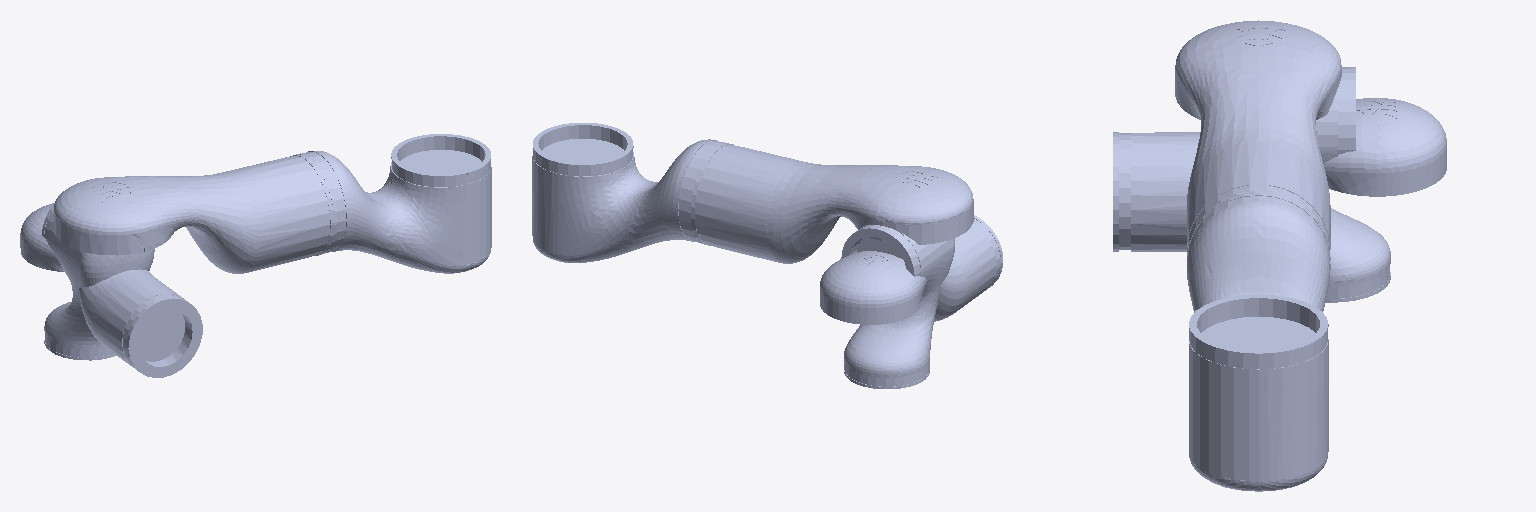
The robot description file, URDF, robot "eg2_4b_description":
<?xml version="1.0" encoding="utf-8"?>
<!-- This URDF was automatically created by SolidWorks to URDF Exporter! Originally created by [author] ([email redacted]) 
     Commit Version: 1.6.0-1-g15f4949  Build Version: 1.6.7594.29634
     For more information, please see http://wiki.ros.org/sw_urdf_exporter -->
<robot
  name="eg2_4b_description">
  <link
    name="base_link">
    <inertial>
      <origin
        xyz="-2.6792E-06 1.4343E-05 0.040955"
        rpy="0 0 0" />
      <mass
        value="0.075349" />
      <inertia
        ixx="6.9695E-05"
        ixy="-2.8955E-12"
        ixz="1.2653E-08"
        iyy="6.0426E-05"
        iyz="2.2585E-08"
        izz="1.9195E-05" />
    </inertial>
    <visual>
      <origin
        xyz="0 0 0"
        rpy="0 0 0" />
      <geometry>
        <mesh
          filename="package://eg2_4b_description/meshes/base_link.STL" />
      </geometry>
      <material
        name="">
        <color
          rgba="0.79216 0.81961 0.93333 1" />
      </material>
    </visual>
    <collision>
      <origin
        xyz="0 0 0"
        rpy="0 0 0" />
      <geometry>
        <mesh
          filename="package://eg2_4b_description/meshes/base_link.STL" />
      </geometry>
    </collision>
  </link>
  <link
    name="Link1">
    <inertial>
      <origin
        xyz="0.0001 0.0085832 0.013664"
        rpy="0 0 0" />
      <mass
        value="0.0024857" />
      <inertia
        ixx="5.8907E-07"
        ixy="1.3343E-19"
        ixz="4.2984E-19"
        iyy="5.2237E-07"
        iyz="-2.5787E-07"
        izz="2.7386E-07" />
    </inertial>
    <visual>
      <origin
        xyz="0 0 0"
        rpy="0 0 0" />
      <geometry>
        <mesh
          filename="package://eg2_4b_description/meshes/Link1.STL" />
      </geometry>
      <material
        name="">
        <color
          rgba="0.79216 0.81961 0.93333 1" />
      </material>
    </visual>
    <collision>
      <origin
        xyz="0 0 0"
        rpy="0 0 0" />
      <geometry>
        <mesh
          filename="package://eg2_4b_description/meshes/Link1.STL" />
      </geometry>
    </collision>
  </link>
  <joint
    name="joint1"
    type="revolute">
    <origin
      xyz="0 -0.04 0.09"
      rpy="0 0 0" />
    <parent
      link="base_link" />
    <child
      link="Link1" />
    <axis
      xyz="1 0 0" />
    <limit
      lower="0"
      upper="0.872"
      effort="0"
      velocity="0" />
  </joint>
  <link
    name="Link2">
    <inertial>
      <origin
        xyz="9.9997E-05 0.011846 0.011367"
        rpy="0 0 0" />
      <mass
        value="0.0044927" />
      <inertia
        ixx="4.099E-07"
        ixy="-7.8736E-14"
        ixz="-7.8248E-14"
        iyy="4.2946E-07"
        iyz="-3.8654E-08"
        izz="1.6162E-07" />
    </inertial>
    <visual>
      <origin
        xyz="0 0 0"
        rpy="0 0 0" />
      <geometry>
        <mesh
          filename="package://eg2_4b_description/meshes/Link2.STL" />
      </geometry>
      <material
        name="">
        <color
          rgba="0.79216 0.81961 0.93333 1" />
      </material>
    </visual>
    <collision>
      <origin
        xyz="0 0 0"
        rpy="0 0 0" />
      <geometry>
        <mesh
          filename="package://eg2_4b_description/meshes/Link2.STL" />
      </geometry>
    </collision>
  </link>
  <joint
    name="joint2"
    type="revolute">
    <origin
      xyz="0 0.022341 0.035565"
      rpy="0 0 0" />
    <parent
      link="Link1" />
    <child
      link="Link2" />
    <axis
      xyz="-1 0 0" />
    <limit
      lower="0"
      upper="0.849"
      effort="0"
      velocity="0" />
  </joint>
  <link
    name="Link3">
    <inertial>
      <origin
        xyz="0.0001 -0.0085832 0.013664"
        rpy="0 0 0" />
      <mass
        value="0.0024857" />
      <inertia
        ixx="5.8907E-07"
        ixy="-3.3324E-19"
        ixz="3.1193E-19"
        iyy="5.2237E-07"
        iyz="2.5787E-07"
        izz="2.7386E-07" />
    </inertial>
    <visual>
      <origin
        xyz="0 0 0"
        rpy="0 0 0" />
      <geometry>
        <mesh
          filename="package://eg2_4b_description/meshes/Link3.STL" />
      </geometry>
      <material
        name="">
        <color
          rgba="0.79216 0.81961 0.93333 1" />
      </material>
    </visual>
    <collision>
      <origin
        xyz="0 0 0"
        rpy="0 0 0" />
      <geometry>
        <mesh
          filename="package://eg2_4b_description/meshes/Link3.STL" />
      </geometry>
    </collision>
  </link>
  <joint
    name="joint3"
    type="revolute">
    <origin
      xyz="0 0.04 0.09"
      rpy="0 0 0" />
    <parent
      link="base_link" />
    <child
      link="Link3" />
    <axis
      xyz="-1 0 0" />
    <limit
      lower="0"
      upper="0.872"
      effort="0"
      velocity="0" />
  </joint>
  <link
    name="Link4">
    <inertial>
      <origin
        xyz="9.9999E-05 -0.011846 0.011367"
        rpy="0 0 0" />
      <mass
        value="0.0044926" />
      <inertia
        ixx="4.099E-07"
        ixy="-1.4237E-13"
        ixz="-2.483E-13"
        iyy="4.2946E-07"
        iyz="3.8655E-08"
        izz="1.6162E-07" />
    </inertial>
    <visual>
      <origin
        xyz="0 0 0"
        rpy="0 0 0" />
      <geometry>
        <mesh
          filename="package://eg2_4b_description/meshes/Link4.STL" />
      </geometry>
      <material
        name="">
        <color
          rgba="0.79216 0.81961 0.93333 1" />
      </material>
    </visual>
    <collision>
      <origin
        xyz="0 0 0"
        rpy="0 0 0" />
      <geometry>
        <mesh
          filename="package://eg2_4b_description/meshes/Link4.STL" />
      </geometry>
    </collision>
  </link>
  <joint
    name="joint4"
    type="revolute">
    <origin
      xyz="0 -0.022341 0.035565"
      rpy="0 0 0" />
    <parent
      link="Link3" />
    <child
      link="Link4" />
    <axis
      xyz="1 0 0" />
    <limit
      lower="0"
      upper="0.849"
      effort="0"
      velocity="0" />
  </joint>
</robot>

--- Render facts (derived) ---
The picture shows the robot from 3 angles, left to right: view 1: azimuth 30°, elevation 25°; view 2: azimuth 150°, elevation 25°; view 3: azimuth 270°, elevation 25°; orthographic projection.
Model eg2_4b_description with 5 links and 4 joints (4 revolute), rooted at base_link, posed every joint at zero.
Visible links, largest first — view 1: Link2, Link3, Link4; view 2: Link2, Link3, Link4; view 3: Link2, Link3, Link4.
Boxes of the visible links, box(x1,y1,x2,y2) form: Link2: box(54, 134, 491, 273); Link3: box(20, 203, 202, 377); Link4: box(42, 205, 154, 360); Link2: box(532, 123, 973, 263); Link3: box(820, 215, 1002, 324); Link4: box(841, 224, 954, 388); Link2: box(1175, 20, 1341, 491); Link3: box(1113, 98, 1446, 251); Link4: box(1316, 67, 1390, 302).
Size in the robot's own frame: 0.3305 by 0.1625 by 0.1285 metres.
3 mesh visuals loaded from 5 distinct referenced files (3 binary STL); not drawn: 2 (reference not matched to a file when rendering).